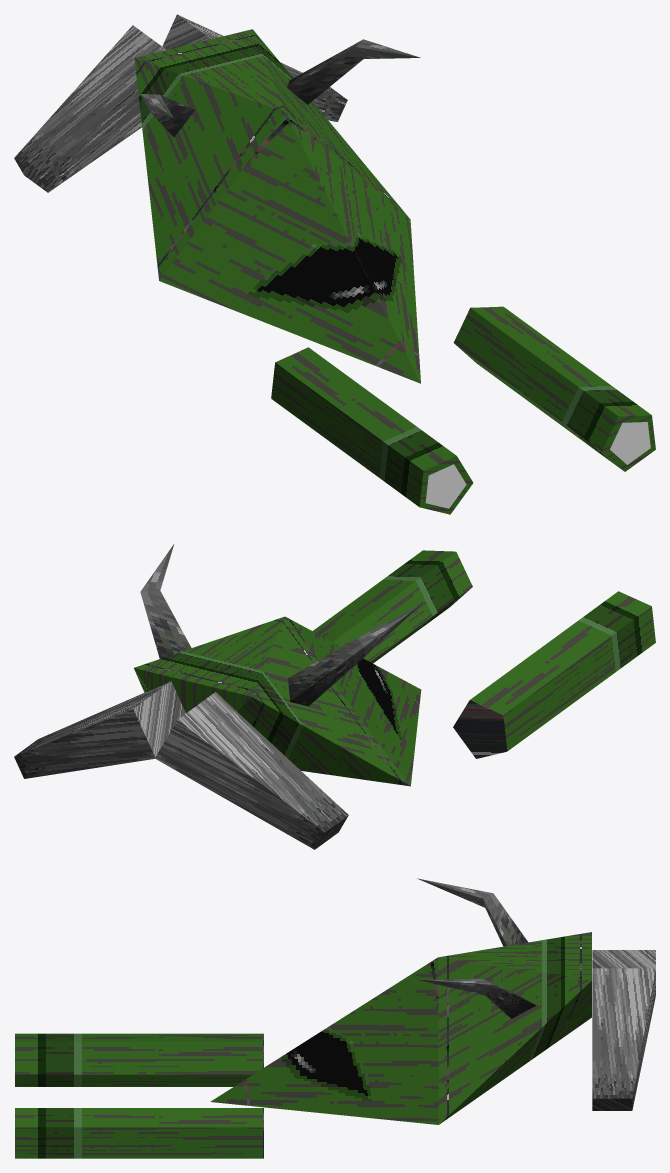
File: model_058_robot_noname.glb
3 views of the same model, one above another, from view 1: azimuth 30°, elevation 25°; view 2: azimuth 150°, elevation 25°; view 3: azimuth 270°, elevation 25° (orthographic). The views are drawn at different scales.
Visible parts, largest first — view 1: model_058; view 2: model_058; view 3: model_058.
Boxes of the visible parts, left/top/right/bottom form: model_058: left=14, top=14, right=655, bottom=514; model_058: left=14, top=544, right=655, bottom=849; model_058: left=15, top=878, right=655, bottom=1158.
Size of the model in its own units: 6.06 by 4.31 by 12.96.
4 materials, 3 textured.
